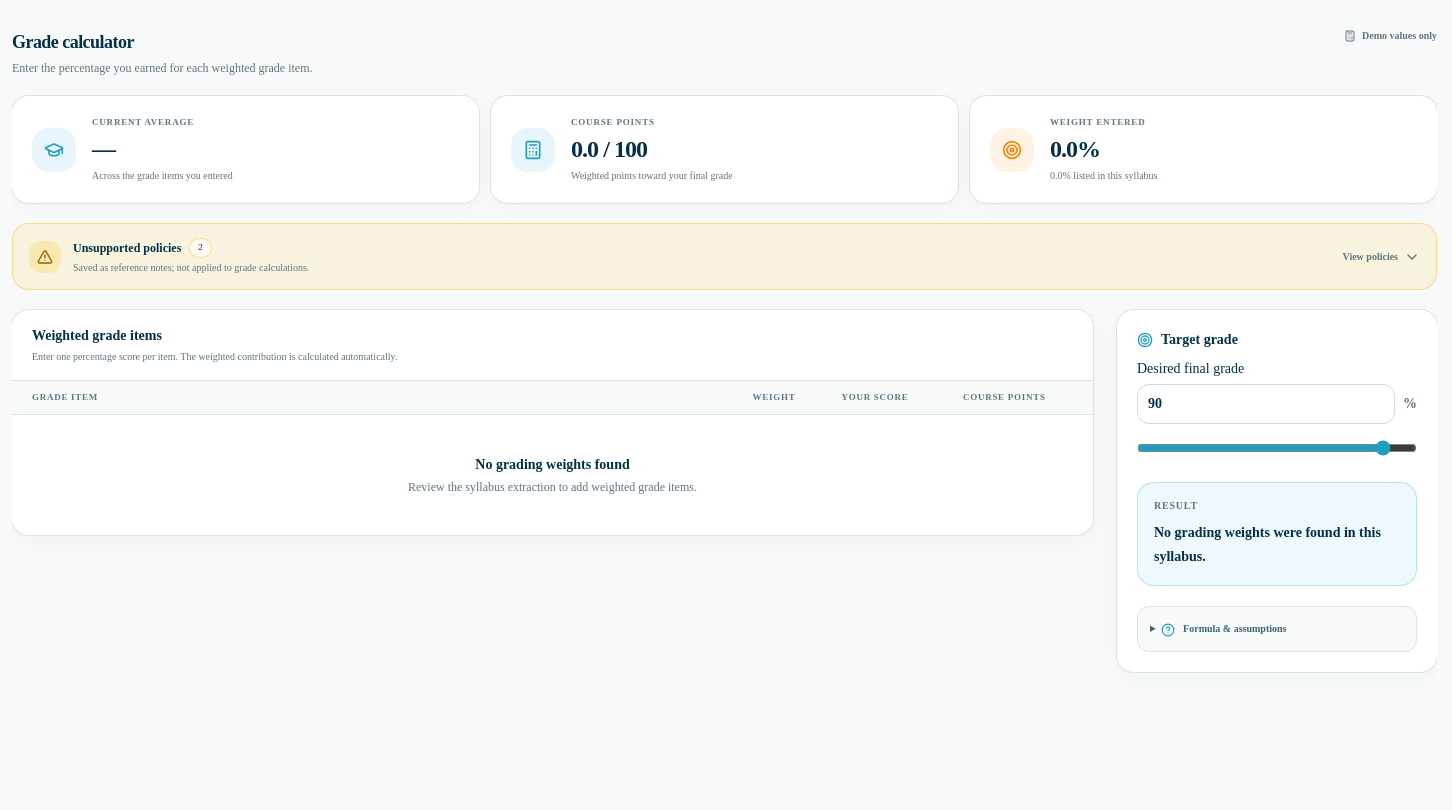
Test case: GradeCalculator policy notes › groups unsupported policies in a collapsed expandable section
Expected: the text "Unsupported policies" is shown, 73,241 -> 181,255
Expected: the icon "2" is shown, 189,238 -> 212,258
Click the heading "Unsupported policies". click: (45, 257)
box: 29,238 -> 1420,273
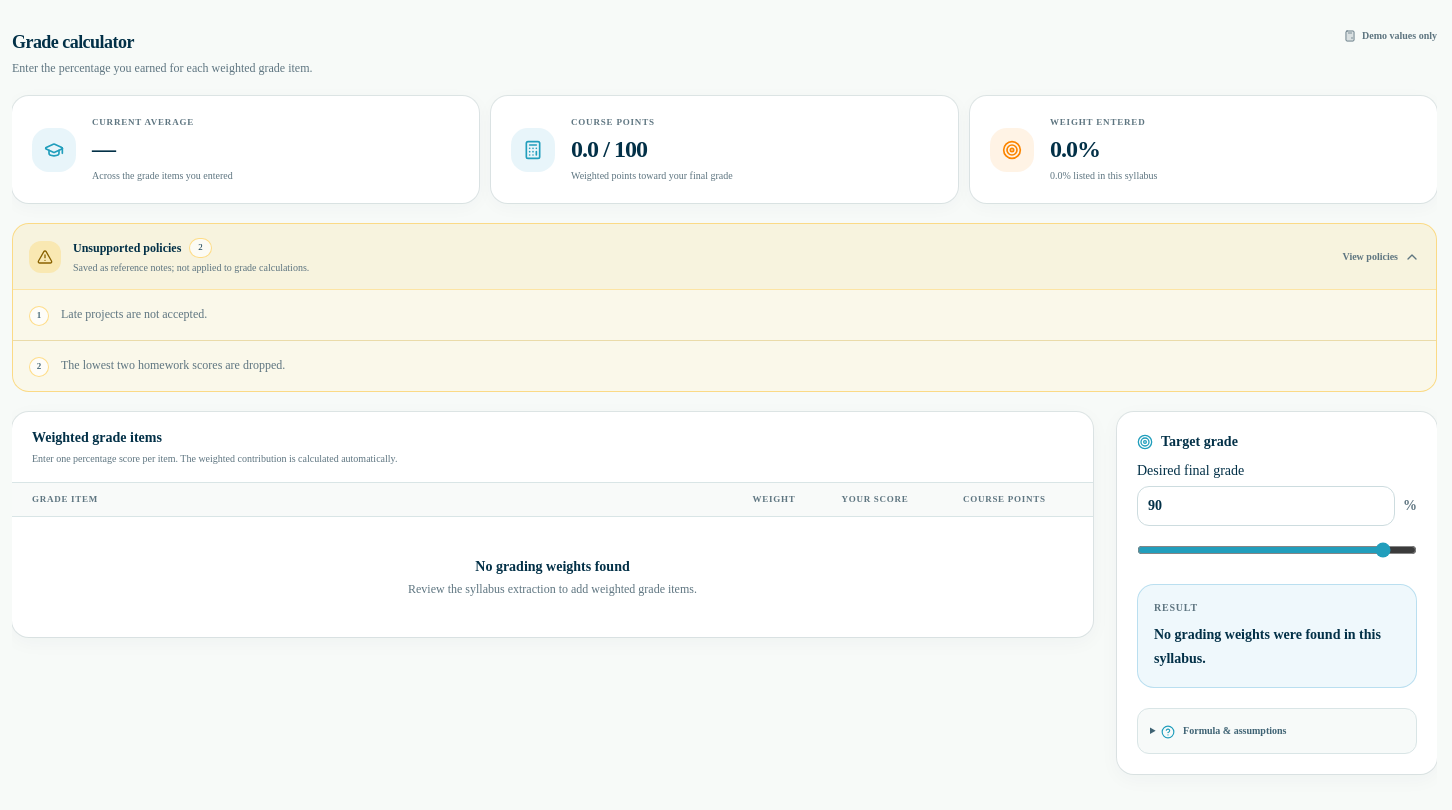
Result: the text "Late projects are not accepted." is shown at 61,304 -> 207,326
Result: the text "The lowest two homework scores are dropped." is shown at 61,355 -> 285,377
